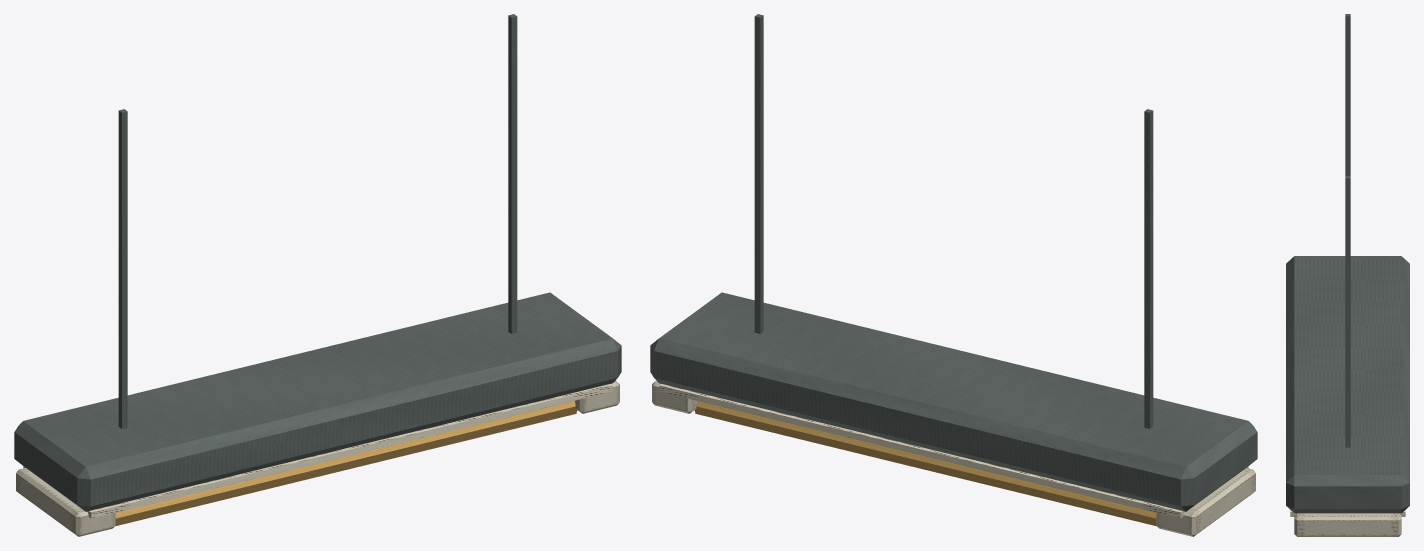
Rendered from FluorescentFixture.fbx.
3 views of the same model, side by side, from view 1: azimuth 30°, elevation 25°; view 2: azimuth 150°, elevation 25°; view 3: azimuth 270°, elevation 25° (orthographic). The views are drawn at different scales.
Parts seen in each view (by area): view 1: FluorescentFixture; view 2: FluorescentFixture; view 3: FluorescentFixture.
Boxes of the visible parts, box(x1,y1,x2,y2) form: FluorescentFixture: box(14, 14, 621, 536); FluorescentFixture: box(650, 14, 1257, 536); FluorescentFixture: box(1286, 14, 1409, 536).
Size of the model in its own units: 95 by 65.8 by 22.
